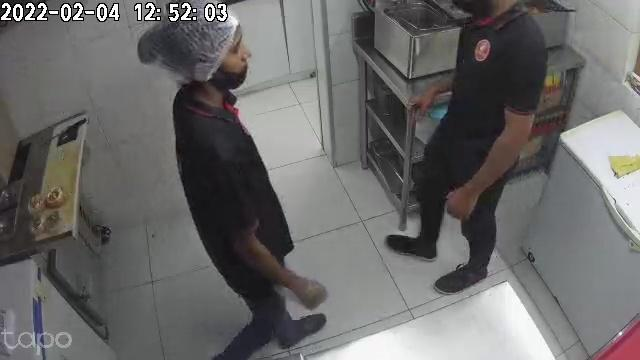no_gloves: (447, 173, 486, 217)
